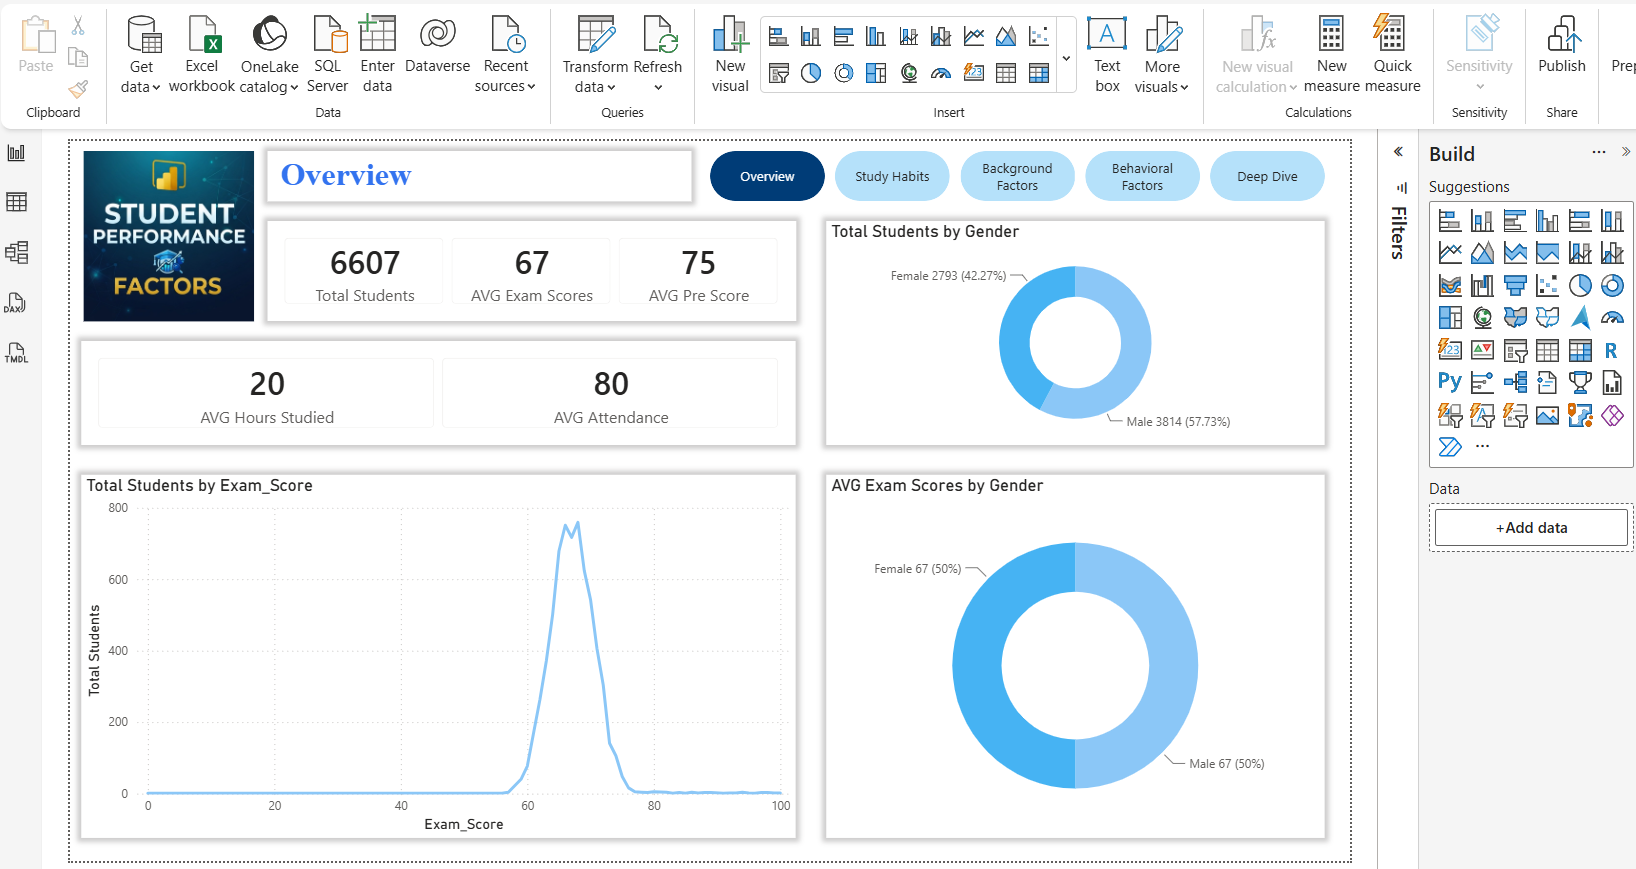

The dashboard page shown, as its layout file describes it:
{"tool":"powerbi","page":{"name":"Overview","canvas":[1280,720],"ordinal":0},"visuals":[{"type":"cardVisual","fields":{"Data":["DataSet.Total Students","DataSet.AVG Exam Scores","DataSet.AVG Previous Scores"]},"box":[197.1,80,528.6,100],"z":0},{"type":"cardVisual","fields":{"Data":["DataSet.AVG Hours Studied","DataSet.AVG Attendance"]},"box":[11.4,200,714.3,104.3],"z":1000},{"type":"donutChart","fields":{"Y":["DataSet.AVG Exam Scores"],"Category":["DataSet.Gender"]},"box":[755.7,334.3,498.6,362.9],"z":2000},{"type":"donutChart","fields":{"Y":["DataSet.Total Students"],"Category":["DataSet.Gender"]},"box":[755.7,80,498.6,224.3],"z":3000},{"type":"textbox","box":[197.1,10,424.3,50],"z":4000},{"type":"image","box":[11.4,10,175.7,170],"z":5000},{"type":"lineChart","fields":{"Y":["DataSet.Total Students"],"Category":["DataSet.Exam_Score"]},"box":[11.4,334.3,714.3,362.9],"z":6000},{"type":"pageNavigator","box":[640,10,617.1,50],"z":7000}]}

Visuals, with their boxes on the page's 1280x720 design canvas (x1, y1, x2, y2). These are canvas units, not pixel positions in the 1636x869 screenshot, which may show the page scaled, cropped or inside an application window:
cardVisual - DataSet.Total Students x DataSet.AVG Exam Scores: 197,80,726,180
cardVisual - DataSet.AVG Hours Studied x DataSet.AVG Attendance: 11,200,726,304
donutChart - DataSet.AVG Exam Scores x DataSet.Gender: 756,334,1254,697
donutChart - DataSet.Total Students x DataSet.Gender: 756,80,1254,304
textbox: 197,10,621,60
image: 11,10,187,180
lineChart - DataSet.Total Students x DataSet.Exam_Score: 11,334,726,697
pageNavigator: 640,10,1257,60
